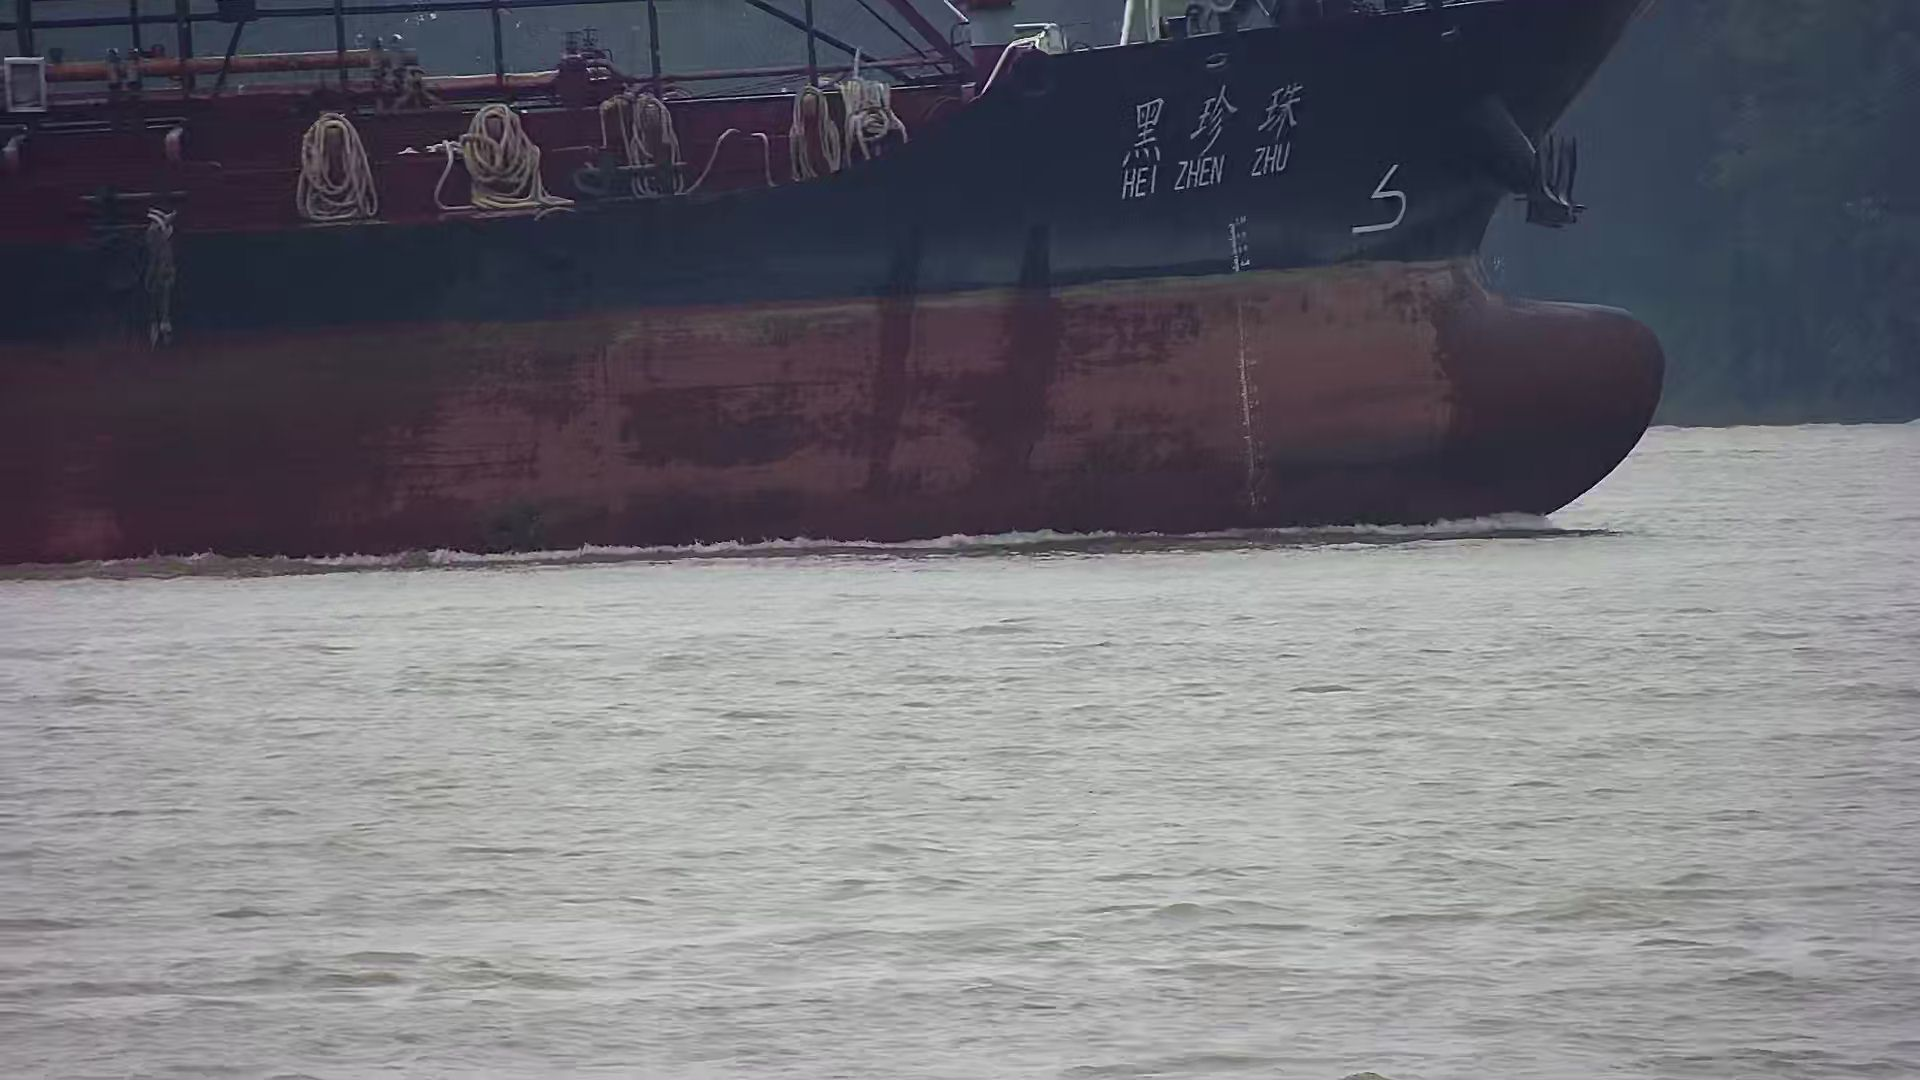ship: (1, 3, 1665, 564)
